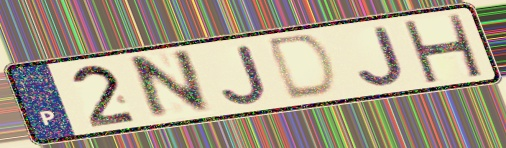2: (70, 62, 139, 129)
D: (266, 31, 341, 103)
H: (398, 13, 485, 84)
J: (353, 23, 409, 89), (217, 42, 271, 107)
N: (130, 46, 215, 124)
